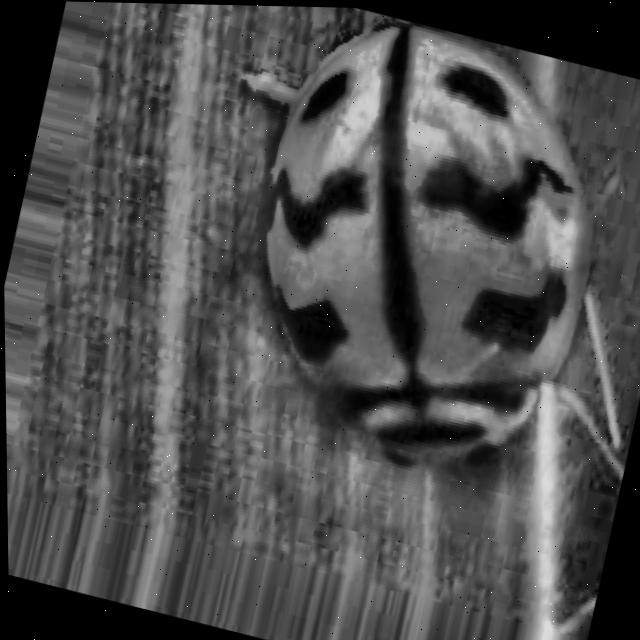Asian-Lady-beetle: (171, 3, 640, 545)
